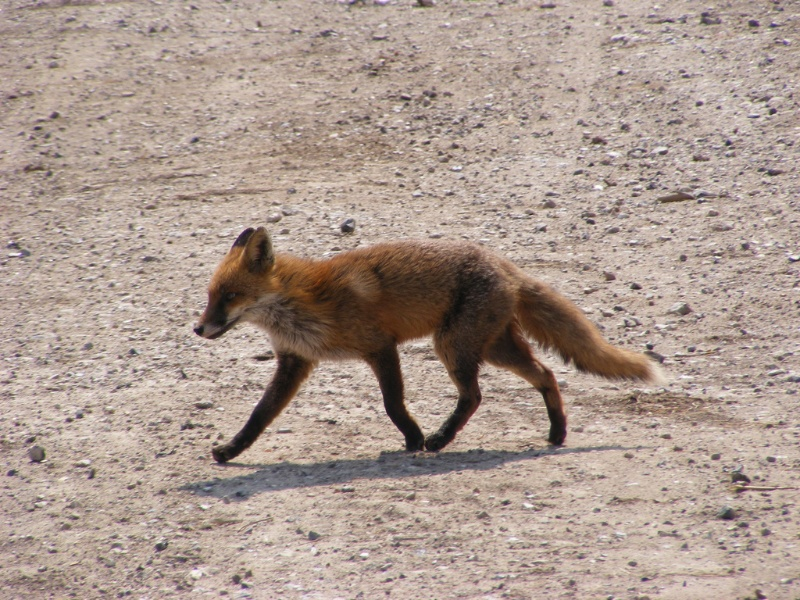fox: (191, 222, 664, 460)
